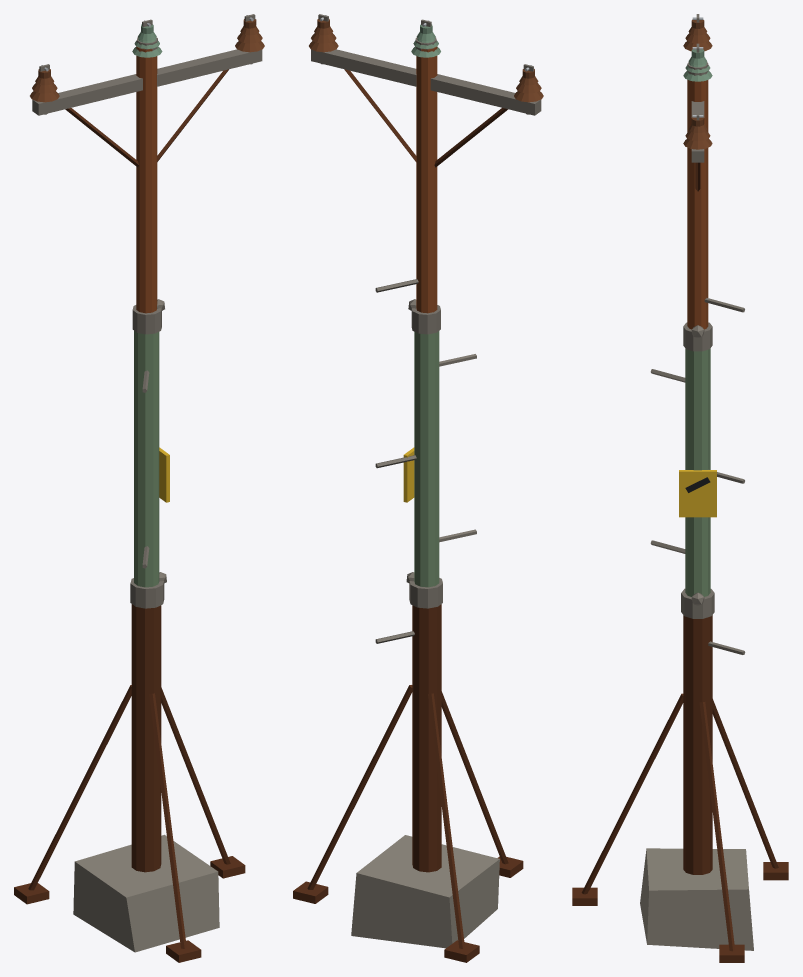
Rendered from power_pole.glb.
3 renders of one model, left to right at view 1: azimuth 30°, elevation 25°; view 2: azimuth 150°, elevation 25°; view 3: azimuth 270°, elevation 25°, orthographic. The views are drawn at different scales.
Visible parts, largest first — view 1: power_pole; view 2: power_pole; view 3: power_pole.
Part boxes in pixels (x1,y1,x2,y2): power_pole: (14,14,264,962); power_pole: (293,14,543,962); power_pole: (572,14,788,962).
Bounding box in the file's own units: 1.24 × 4.64 × 1.03.
